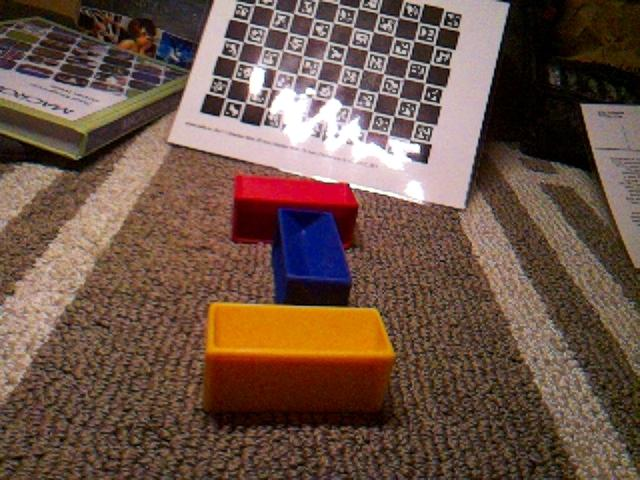blue: (271, 206, 353, 306)
red: (230, 172, 360, 249)
yellow: (202, 300, 397, 416)
